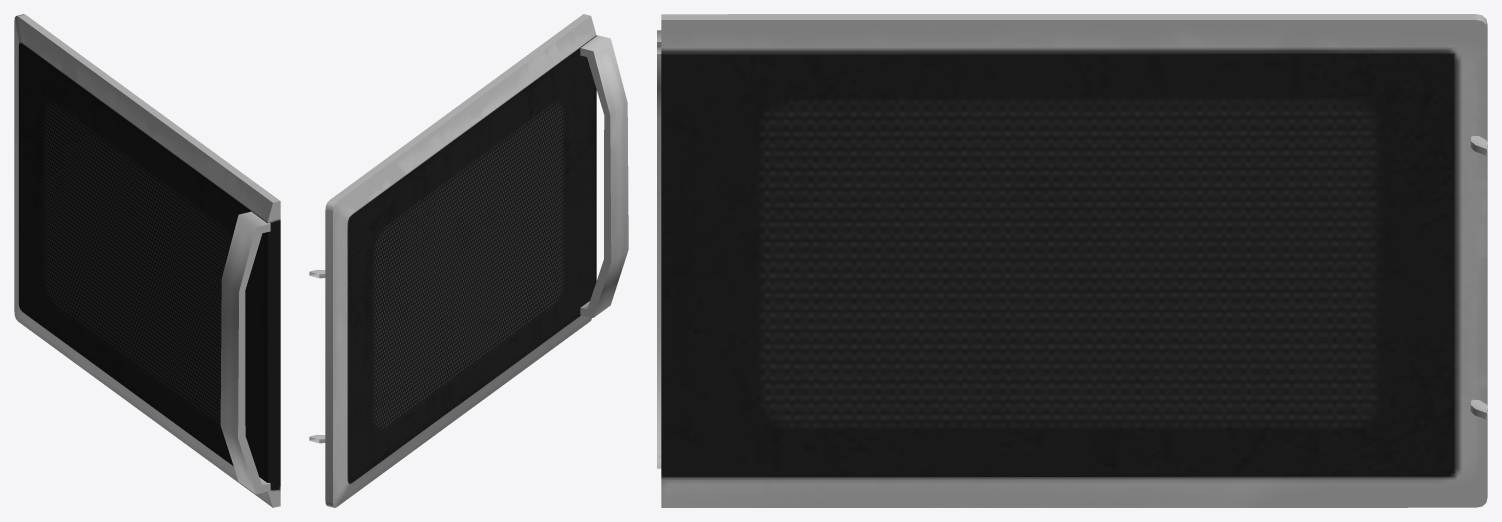
The model's file is SM_Microwave_A1_Door.fbx.
3 views of the same model, side by side, from view 1: azimuth 30°, elevation 25°; view 2: azimuth 150°, elevation 25°; view 3: azimuth 270°, elevation 25° (orthographic). The views are drawn at different scales.
Parts seen in each view (by area): view 1: SM_Microwave_A1_Door; view 2: SM_Microwave_A1_Door; view 3: SM_Microwave_A1_Door.
Part boxes in pixels (x1,y1,x2,y2): SM_Microwave_A1_Door: (14,14,280,507); SM_Microwave_A1_Door: (309,14,628,507); SM_Microwave_A1_Door: (657,14,1487,507).
Bounding box in the file's own units: 4.92 × 36.84 × 23.88.
Materials: 1 (1 with a texture image).
